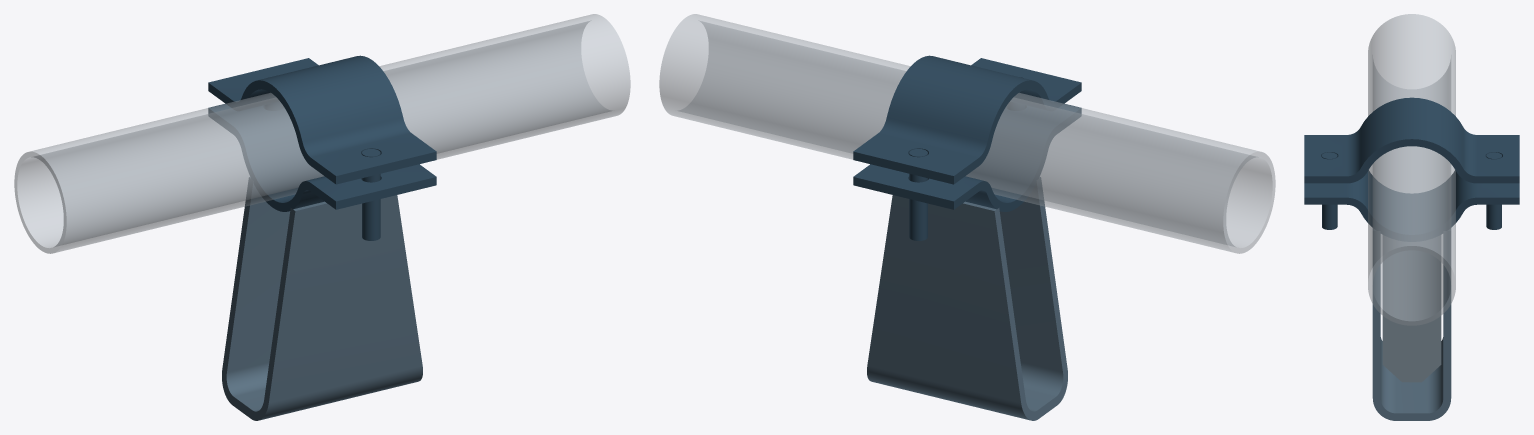
Rendered from TS-625.000-02-opora-dn45.glb.
3 views of the same model, side by side, from view 1: azimuth 30°, elevation 25°; view 2: azimuth 150°, elevation 25°; view 3: azimuth 270°, elevation 25° (orthographic). The views are drawn at different scales.
Visible parts, largest first — view 1: truba, skoba_0, poluhomut_verh_3, poluhomut_niz_2, bolt_5; view 2: truba, skoba_0, poluhomut_verh_3, poluhomut_niz_2, bolt_4; view 3: truba, poluhomut_verh_3, rebro_1, poluhomut_niz_2, skoba_0, bolt_4, bolt_5.
Boxes of the visible parts, left/top/right/bottom form: truba: left=14, top=14, right=630, bottom=253; skoba_0: left=222, top=177, right=422, bottom=420; poluhomut_verh_3: left=208, top=55, right=436, bottom=184; poluhomut_niz_2: left=208, top=103, right=436, bottom=211; bolt_5: left=362, top=149, right=380, bottom=240; truba: left=659, top=14, right=1275, bottom=253; skoba_0: left=867, top=177, right=1067, bottom=420; poluhomut_verh_3: left=853, top=55, right=1081, bottom=184; poluhomut_niz_2: left=853, top=103, right=1081, bottom=211; bolt_4: left=909, top=149, right=927, bottom=240; truba: left=1368, top=14, right=1455, bottom=325; poluhomut_verh_3: left=1304, top=97, right=1519, bottom=183; rebro_1: left=1382, top=235, right=1441, bottom=382; poluhomut_niz_2: left=1304, top=170, right=1519, bottom=241; skoba_0: left=1372, top=229, right=1451, bottom=420; bolt_4: left=1486, top=152, right=1501, bottom=229; bolt_5: left=1322, top=152, right=1337, bottom=229.
Size of the model in its own units: 280 by 152 by 110.
